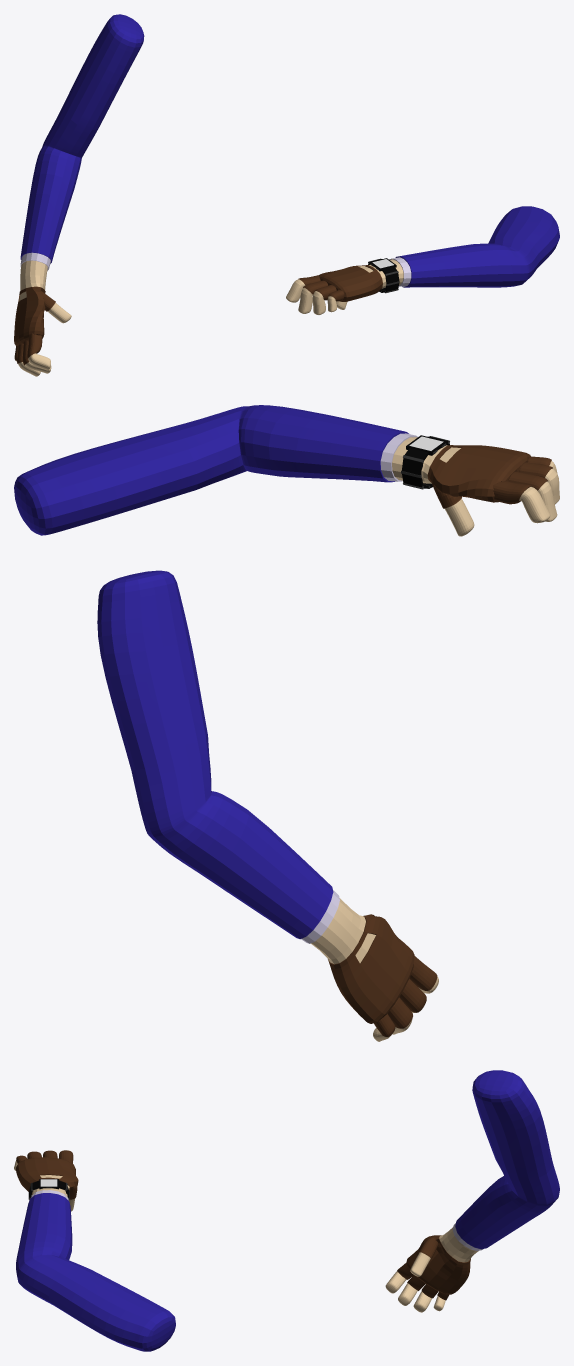
File: ArmWatch.fbx
3 views of the same model, one above another, from view 1: azimuth 30°, elevation 25°; view 2: azimuth 150°, elevation 25°; view 3: azimuth 270°, elevation 25° (orthographic). The views are drawn at different scales.
Visible parts, largest first — view 1: Shirt, Arm.001, Arm; view 2: Shirt, Arm.001, Arm; view 3: Shirt, Arm.001, Arm.
Part boxes in pixels (bbox=[...]): Shirt: bbox=[20, 14, 559, 287]; Arm.001: bbox=[14, 265, 382, 365]; Arm: bbox=[16, 259, 403, 376]; Shirt: bbox=[14, 405, 417, 943]; Arm.001: bbox=[328, 445, 552, 1036]; Arm: bbox=[311, 437, 559, 1041]; Shirt: bbox=[16, 1070, 559, 1351]; Arm.001: bbox=[16, 1150, 470, 1300]; Arm: bbox=[14, 1150, 478, 1312].
Bounding box in the file's own units: 318 × 226 × 372.
